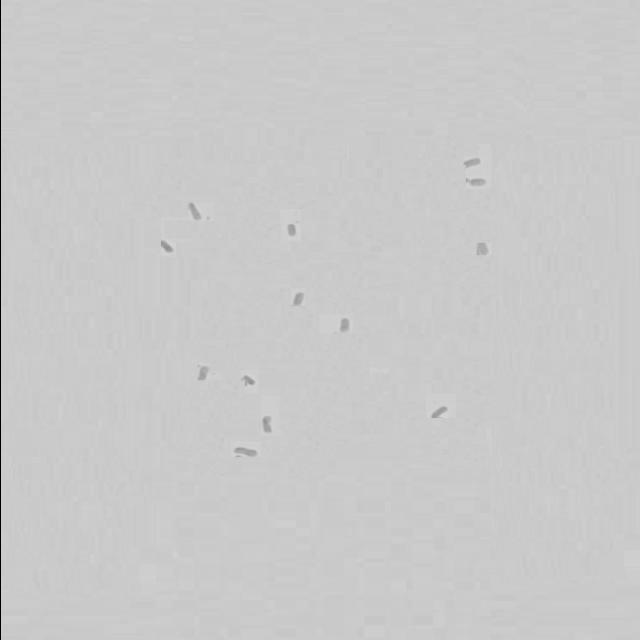E-coli: (182, 199, 210, 225), (278, 218, 308, 242), (227, 444, 263, 462), (255, 416, 280, 437), (236, 372, 263, 390), (157, 238, 177, 258), (431, 403, 453, 421), (472, 243, 495, 259), (335, 317, 355, 335), (194, 365, 212, 385), (292, 293, 314, 309), (466, 177, 491, 189), (461, 158, 483, 166)
